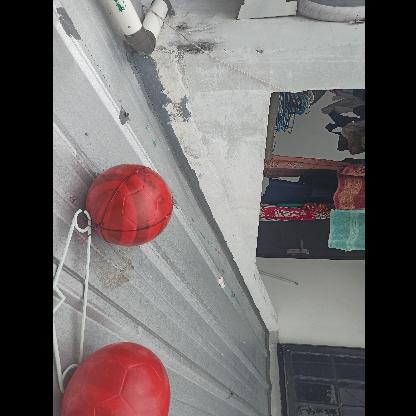red_ball: (89, 163, 173, 247)
